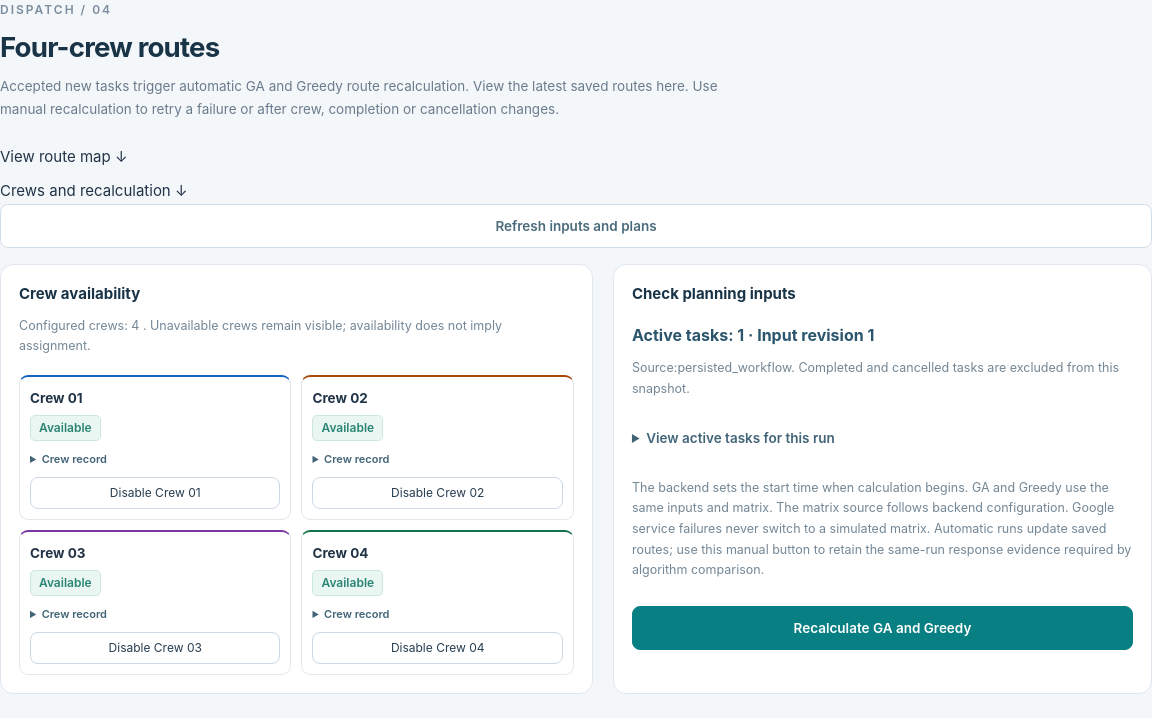
retries an unknown crew write with the identical request and locks recalculation
Expected: the button "Disable Crew 02" is enabled, [312,477,563,509]
Click the button "Disable Crew 01": coordinates (155, 493) [30,477,280,509]
(page scrolled)
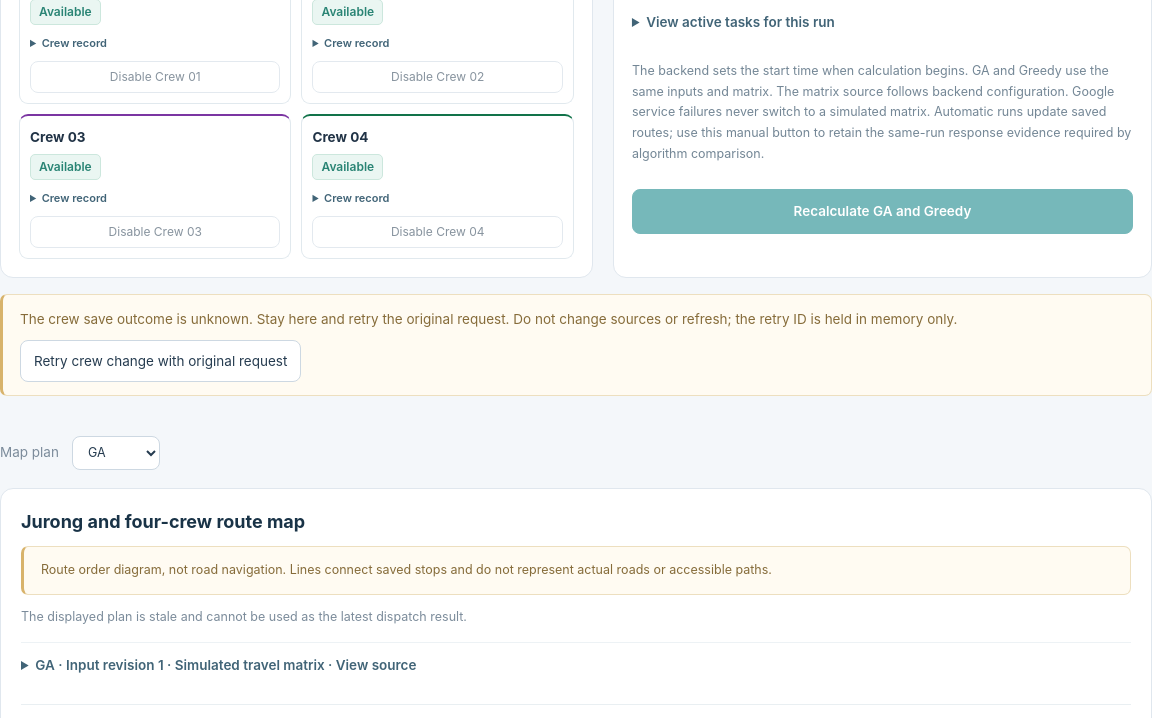
Expected: the button "Recalculate GA and Greedy" is disabled, [632,189,1133,234]
Click the button "Retry crew change with original request": coordinates (161, 361) [20,340,301,382]
(page scrolled)
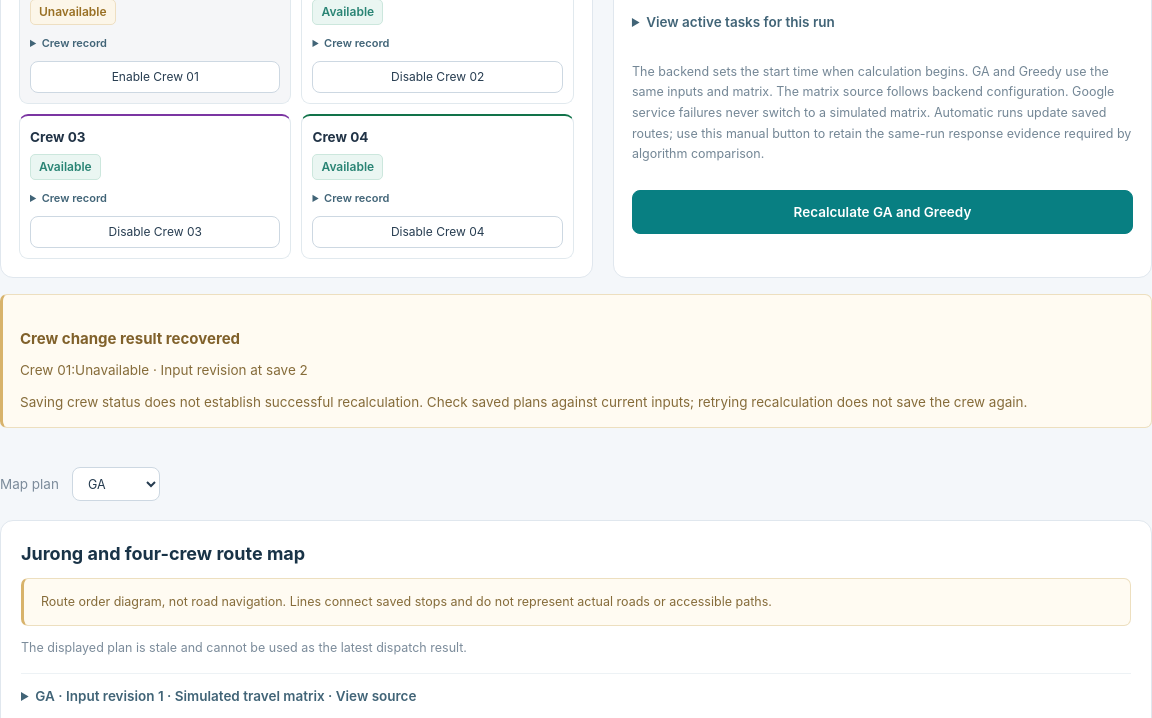
Expected: the heading "Crew change result recovered" is shown, [20,329,240,348]
